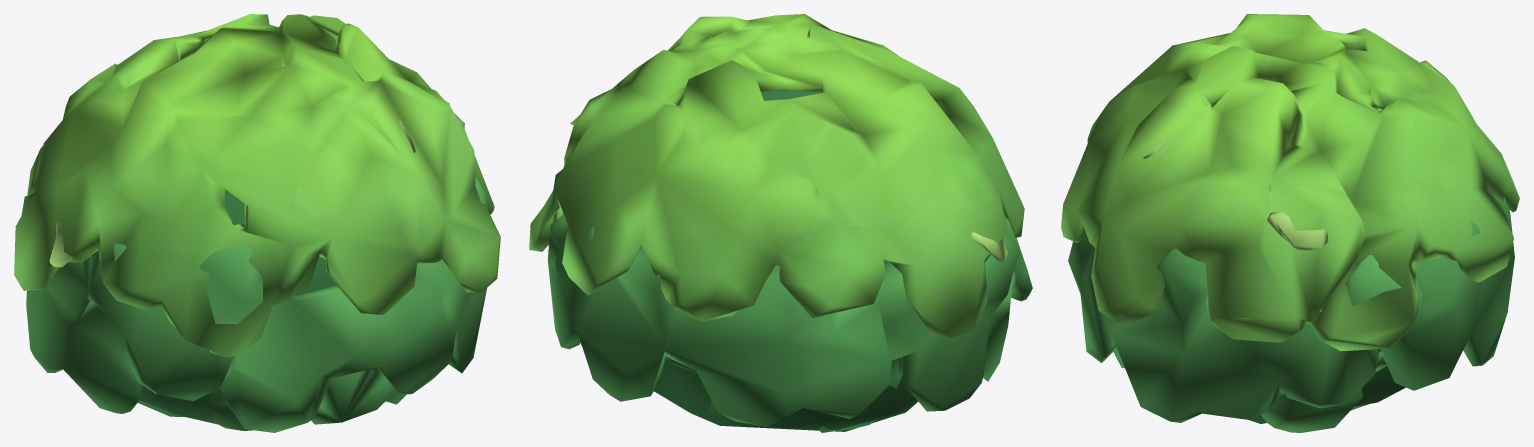
File: bush.glb
3 views of the same model, side by side, from view 1: azimuth 30°, elevation 25°; view 2: azimuth 150°, elevation 25°; view 3: azimuth 270°, elevation 25° (orthographic). The views are drawn at different scales.
Parts seen in each view (by area): view 1: mound; view 2: mound; view 3: mound.
Part boxes in pixels (x1=…): mound: x1=14, y1=14, x2=500, y2=432; mound: x1=529, y1=14, x2=1032, y2=432; mound: x1=1061, y1=14, x2=1519, y2=432.
Bounding box in the file's own units: 0.9289 × 0.7042 × 0.8812.
Materials: 1 (1 with a texture image).
